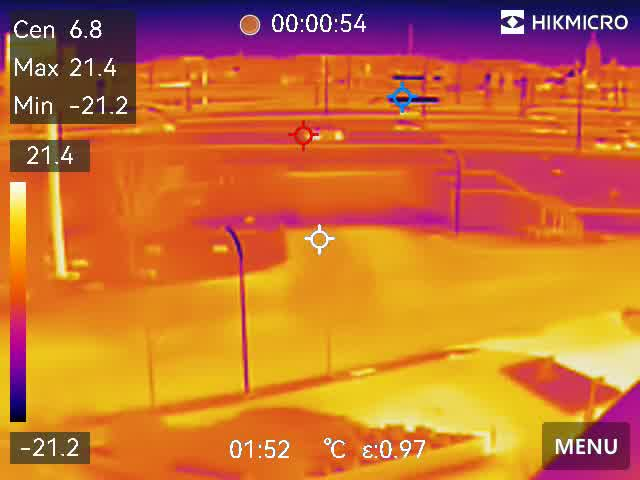heavyTruck: (53, 100, 181, 133)
vehicle: (299, 125, 348, 145), (525, 106, 557, 123), (389, 118, 424, 133), (595, 137, 622, 154)
